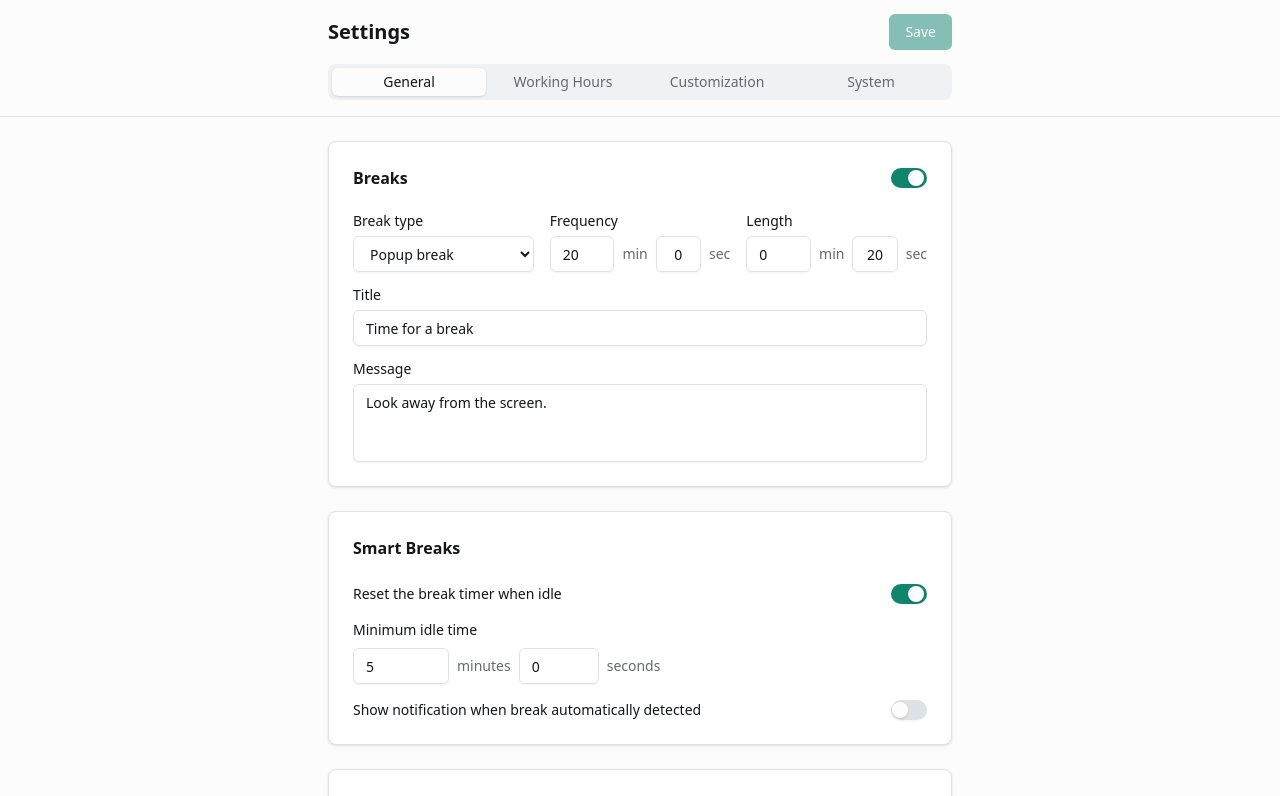
SettingsWindow › names BreakTimer-new in the launch-at-login description
Click the tab "System". click: (871, 82)
box: 794,68 -> 948,96
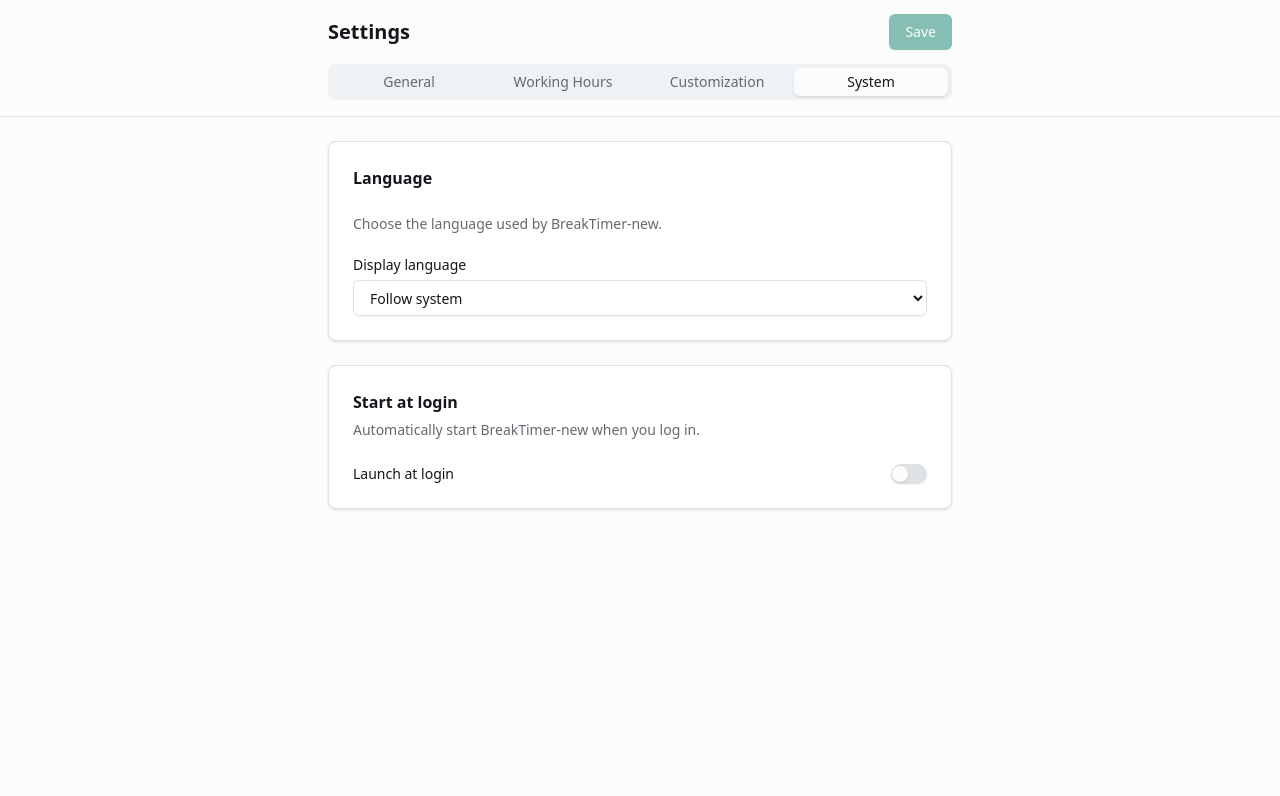
Result: the text "Automatically start BreakTimer-new when you log in." is shown at 353,420 -> 700,439
